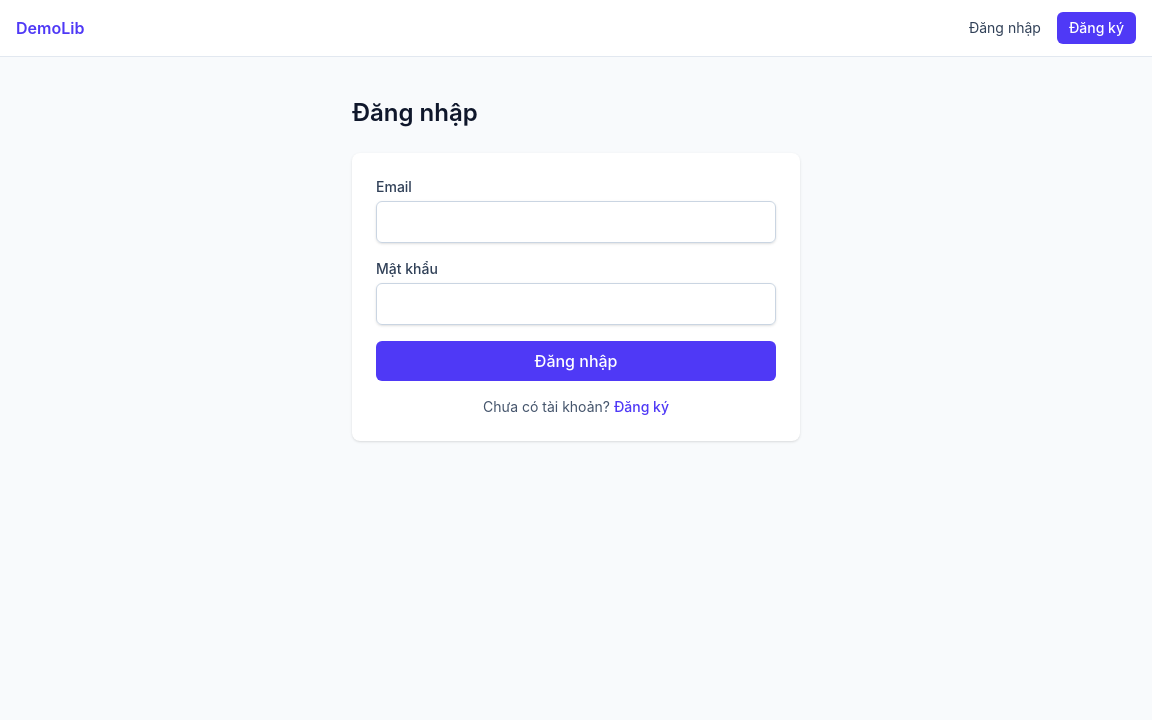
Test: 2.1.2 Đăng nhập — LoginPage › FU-02 EC-03: lỗi INVALID_CREDENTIALS hiển thị chung, ở lại /login
The width and height of the screenshot is (1152, 720).
Type "a@b.com" into the field labelled "Email" at (576, 222), box x1=376 y1=201 x2=776 y2=243
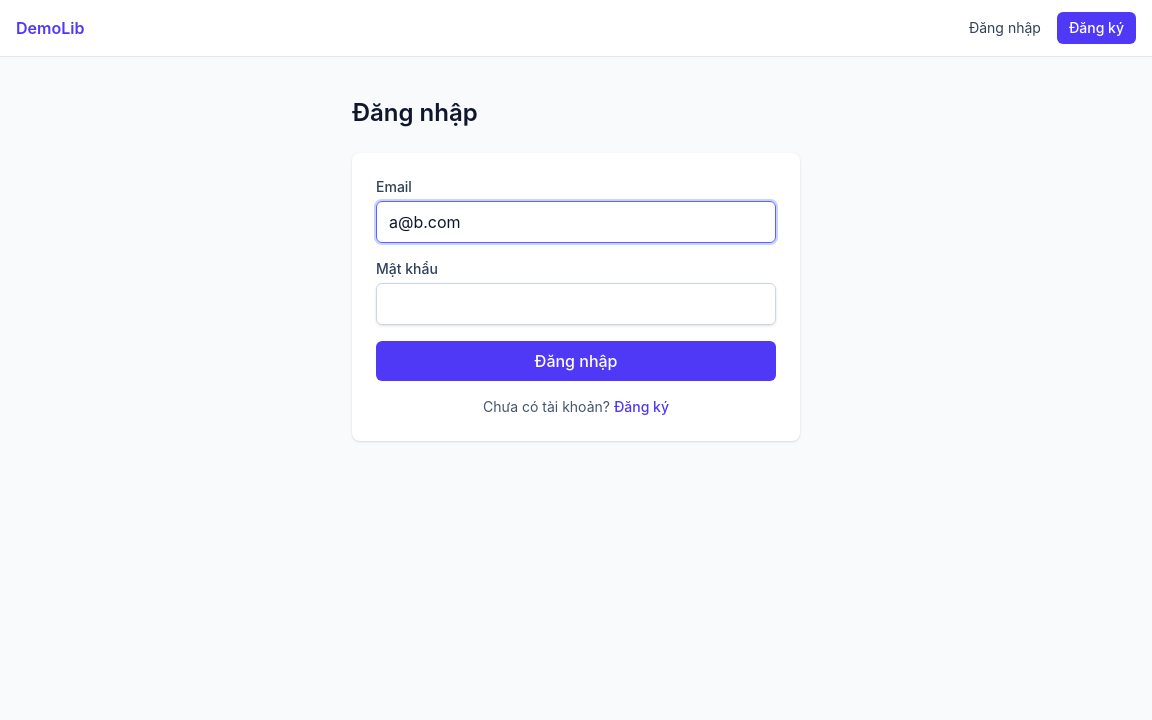
Type "12345678" into the password field labelled "Mật khẩu" at (576, 304), box x1=376 y1=283 x2=776 y2=325
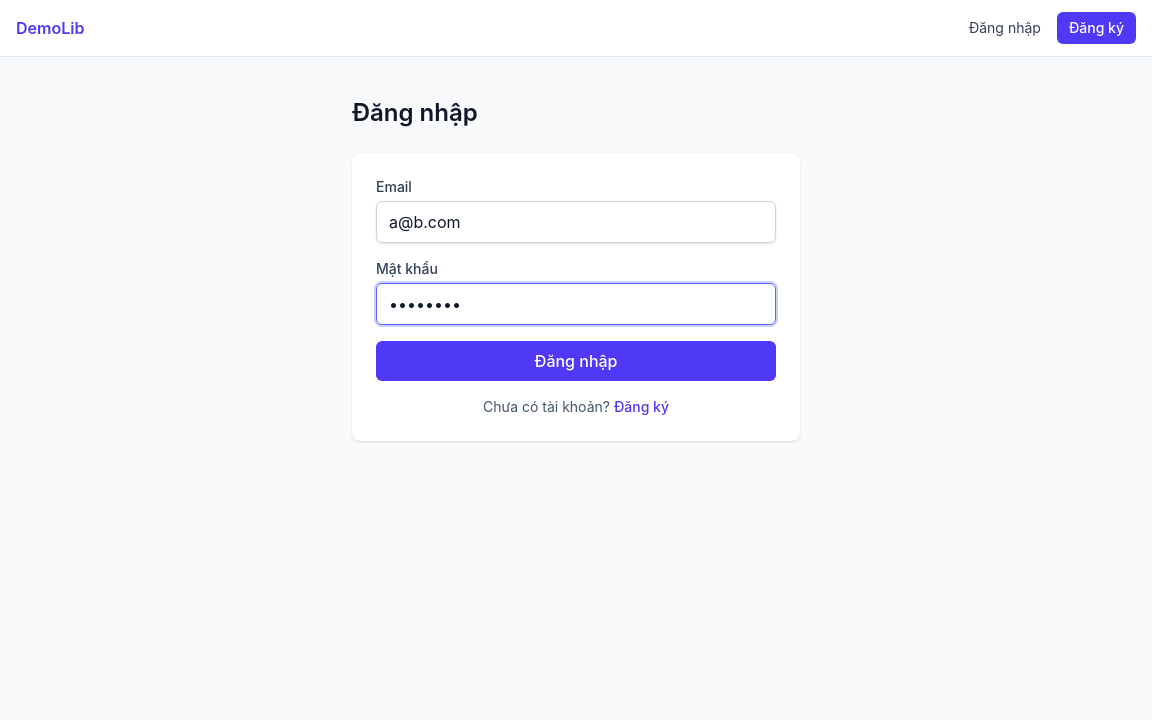
Click the button "Đăng nhập" at (576, 361), box x1=376 y1=341 x2=776 y2=381
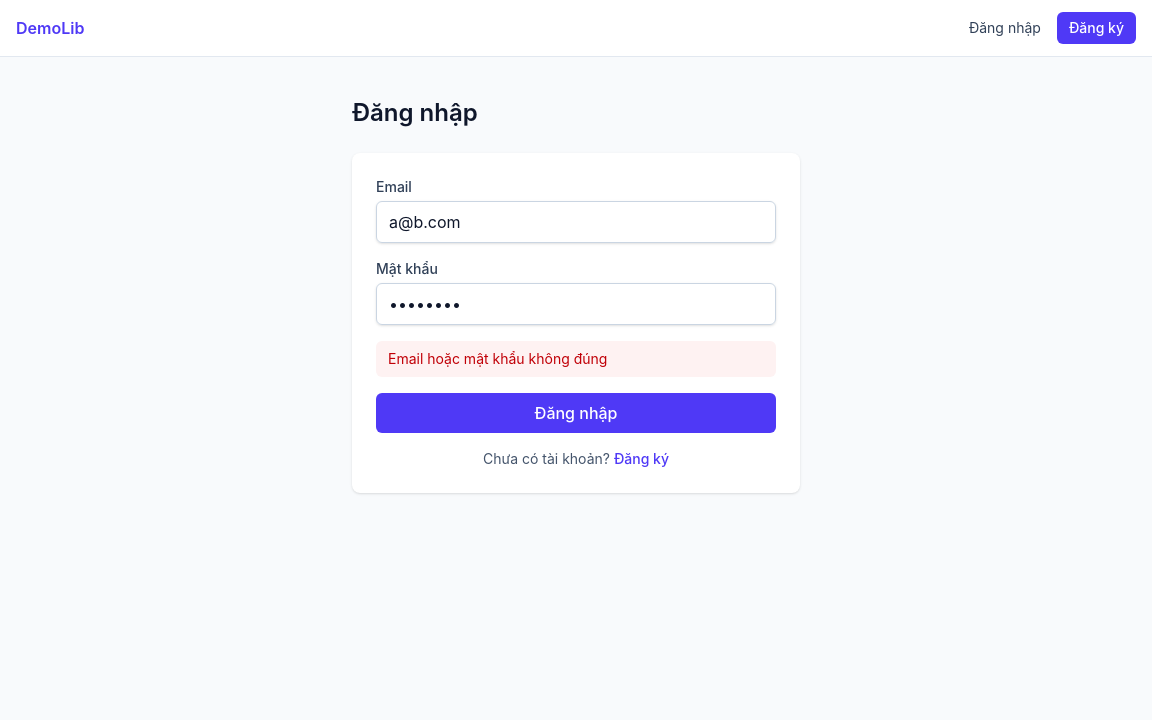
Result: the message reads "Email hoặc mật khẩu không đúng" at x1=388 y1=350 x2=607 y2=367
